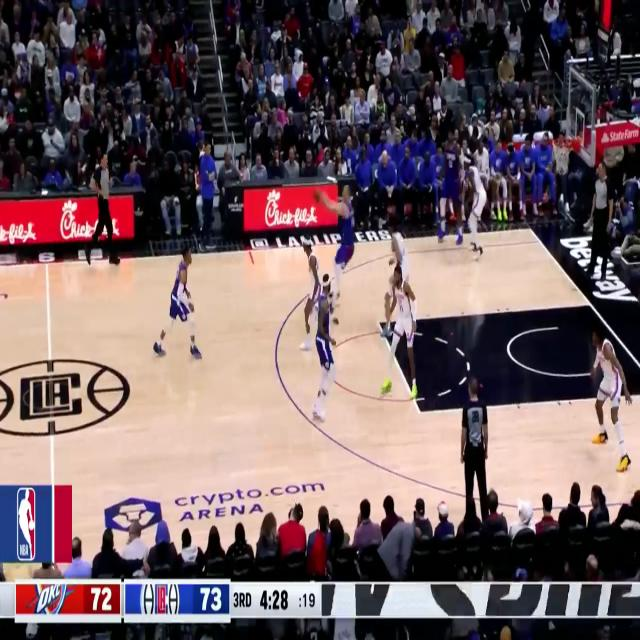Middle: (34, 199, 59, 327)
Right Bottom Left Paint: (407, 391, 432, 431)
Right Corner: (516, 206, 543, 254)
Right Tick: (238, 230, 260, 274)
Right Top Left Paint: (367, 304, 388, 340)
Right Top Right Paint: (579, 284, 601, 324)
